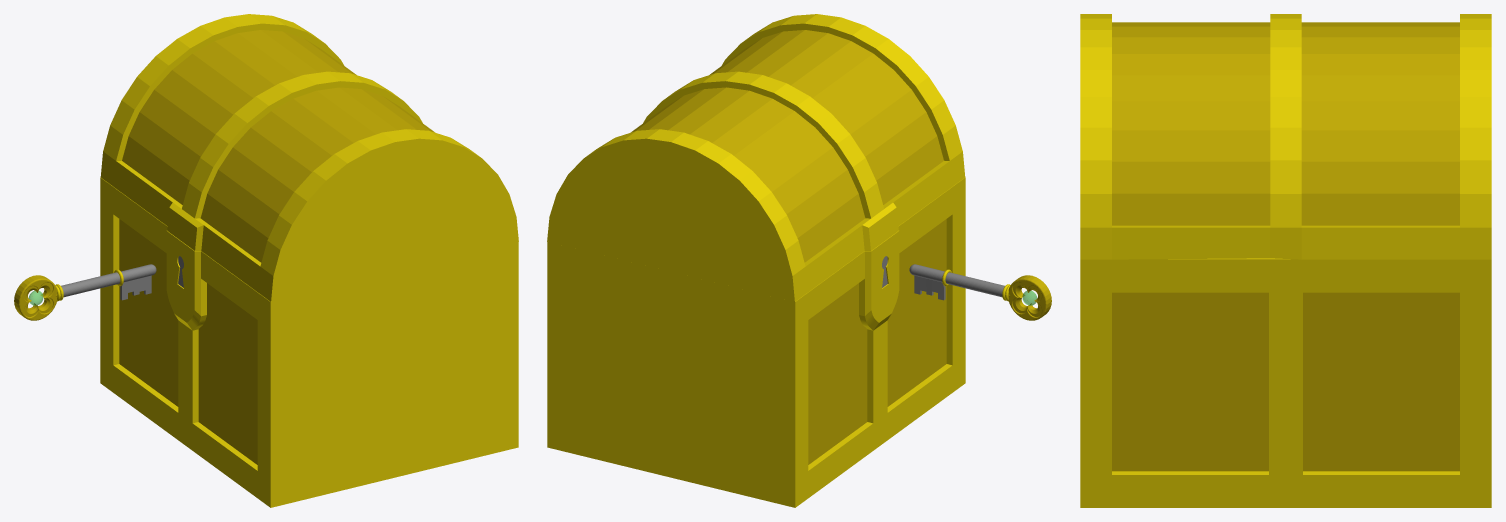
File: _reasureBox.fbx
3 views of the same model, side by side, from view 1: azimuth 30°, elevation 25°; view 2: azimuth 150°, elevation 25°; view 3: azimuth 270°, elevation 25° (orthographic). The views are drawn at different scales.
Visible parts, largest first — view 1: Box, Cover, Key; view 2: Box, Cover, Key; view 3: Box, Cover.
Part boxes in pixels (left/top/right/bottom): Box: left=100, top=177, right=518, bottom=507; Cover: left=100, top=14, right=518, bottom=301; Key: left=14, top=264, right=156, bottom=320; Box: left=547, top=177, right=965, bottom=507; Cover: left=547, top=14, right=965, bottom=301; Key: left=909, top=264, right=1051, bottom=320; Box: left=1080, top=258, right=1491, bottom=507; Cover: left=1080, top=14, right=1491, bottom=259.
Bounding box in the file's own units: 424 × 326 × 300.
